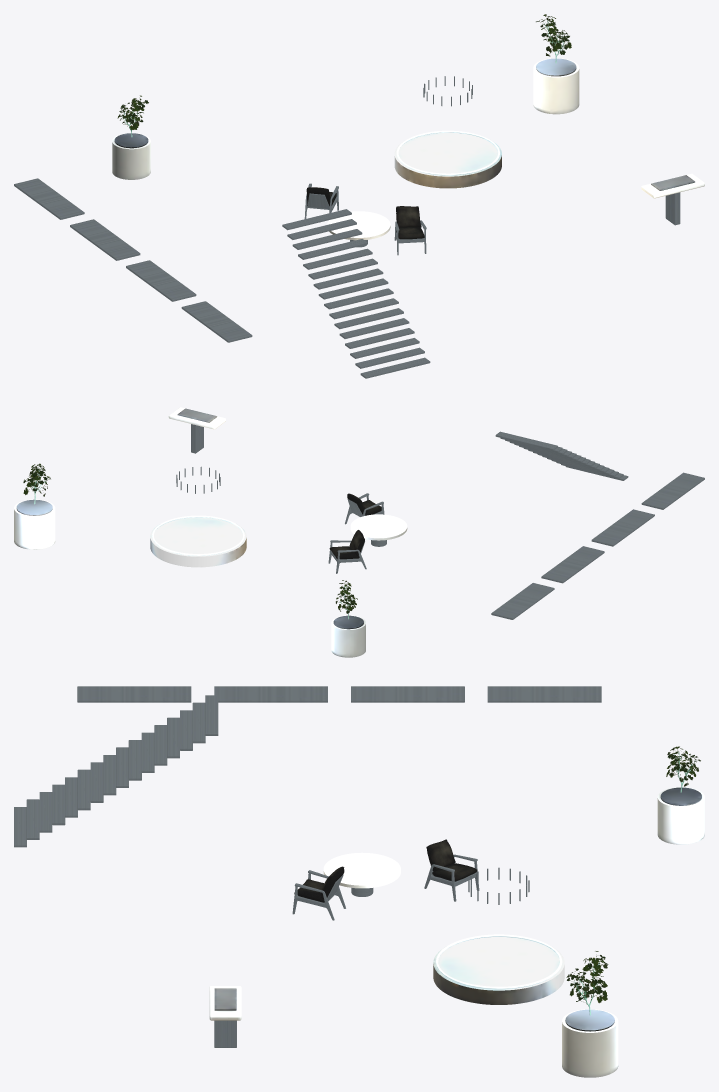
Rendered from top.glb.
3 renders of one model, top to bottom at view 1: azimuth 30°, elevation 25°; view 2: azimuth 150°, elevation 25°; view 3: azimuth 270°, elevation 25°, orthographic. The views are drawn at different scales.
Visible parts, largest first — view 1: Static_top; view 2: Static_top; view 3: Static_top.
Boxes of the visible parts, left/top/right/bottom form: Static_top: left=14, top=14, right=704, bottom=378; Static_top: left=14, top=407, right=704, bottom=657; Static_top: left=14, top=686, right=704, bottom=1077.
Bounding box in the file's own units: 17.27 × 2.82 × 15.16.
Materials: 7 (4 with a texture image).
